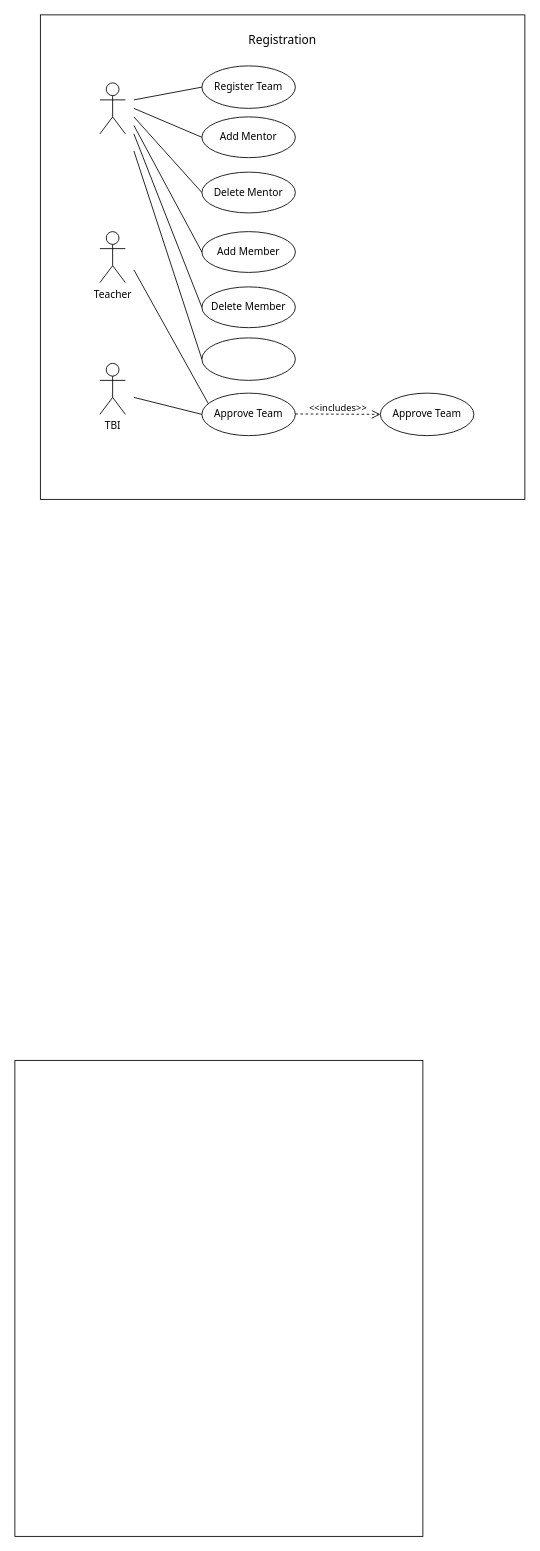
This 540x1551 diagram has some shape labels left out. Here are the shapes that lost their labels. From the top down, the box of each, then its label:
(99, 82, 125, 134): Student
(201, 337, 295, 380): View Member Detail
(14, 1060, 423, 1536): Object
